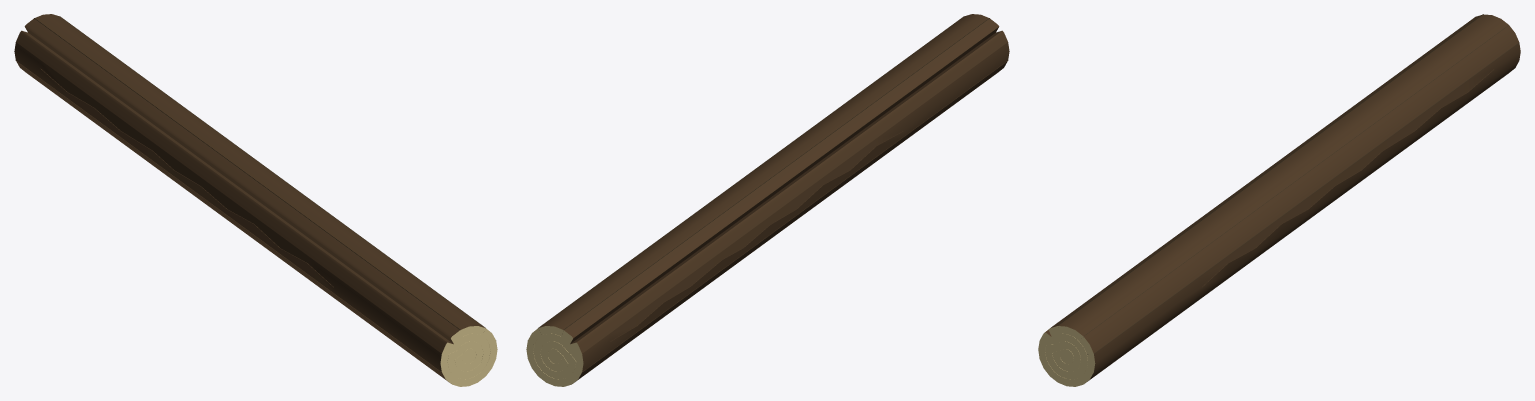
The model's file is Log.fbx.
The picture shows the model from 3 angles, left to right: view 1: azimuth 30°, elevation 25°; view 2: azimuth 150°, elevation 25°; view 3: azimuth 330°, elevation 25°; orthographic projection.
Parts seen in each view (by area): view 1: pCylinder1; view 2: pCylinder1; view 3: pCylinder1.
Part boxes in pixels (bbox=[...]): pCylinder1: bbox=[14, 14, 497, 386]; pCylinder1: bbox=[526, 14, 1009, 386]; pCylinder1: bbox=[1038, 14, 1520, 386].
Bounding box in the file's own units: 1.89 × 1.87 × 24.19.
